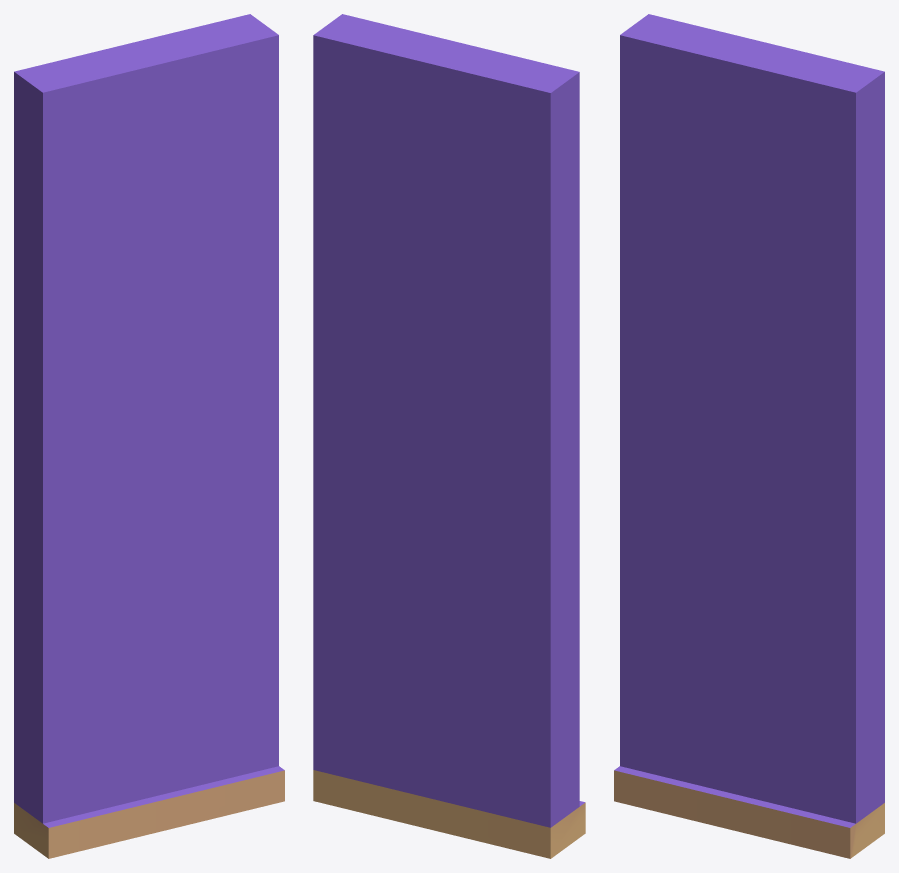
File: Mur ok.fbx
3 renders of one model, left to right at view 1: azimuth 30°, elevation 25°; view 2: azimuth 150°, elevation 25°; view 3: azimuth 330°, elevation 25°, orthographic.
Visible parts, largest first — view 1: Cube; view 2: Cube; view 3: Cube.
Part boxes in pixels (x1,y1,x2,y2): Cube: [14, 14, 284, 858]; Cube: [313, 14, 585, 858]; Cube: [614, 14, 884, 858].
Size of the model in its own units: 289 by 891 by 73.52.
